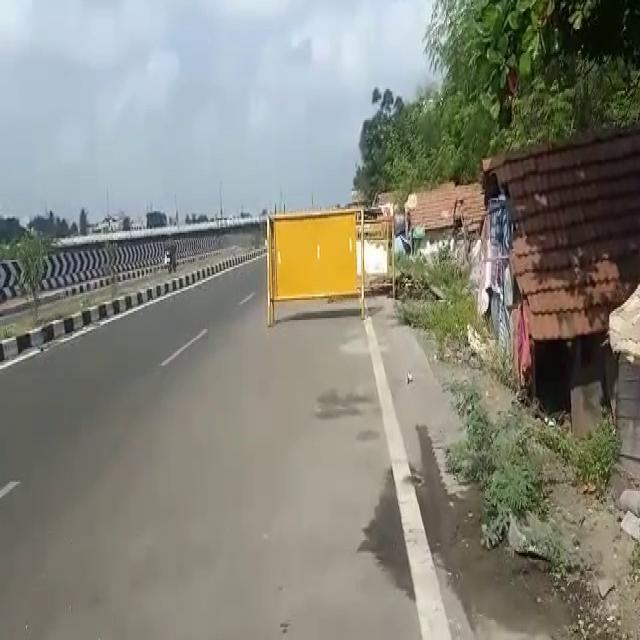fallen_object: (235, 193, 380, 316)
